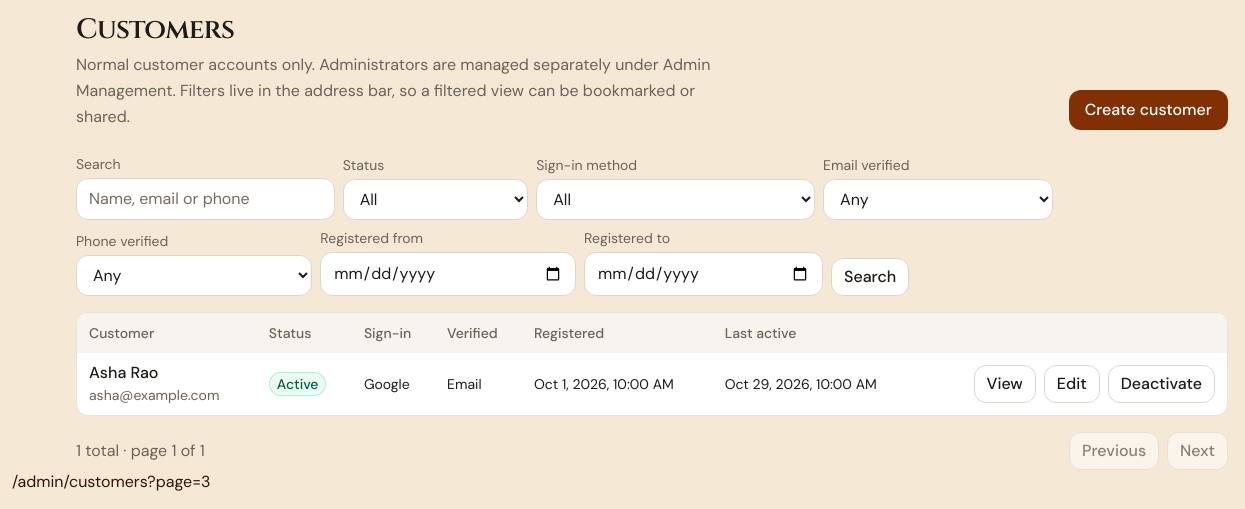
it: Users page › changing a filter updates the address bar and resets to page 1
Expected: the text "asha@example.com" is shown, top-left (89, 385), bottom-right (219, 405)
Select "Google" in the dropdown labelled "Sign-in method" at (676, 200), box top-left (536, 179), bottom-right (815, 220)
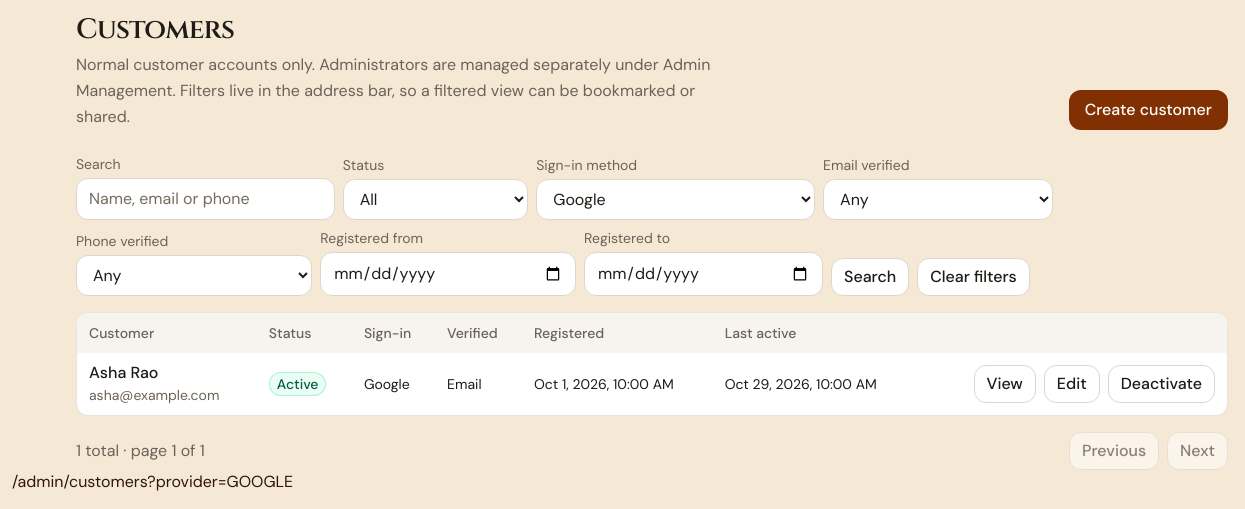
Expected: the text with test id "where" reads "/admin/customers?provider=GOOGLE", top-left (12, 471), bottom-right (293, 492)
